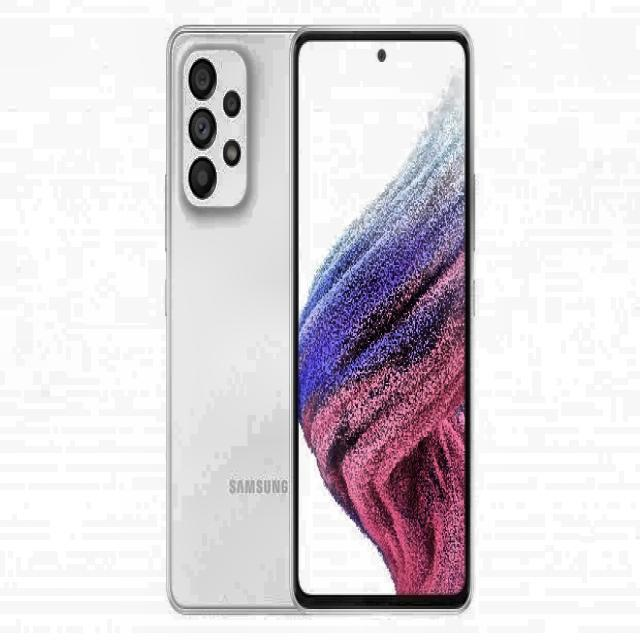Phone: (288, 26, 477, 618), (168, 26, 294, 614)
